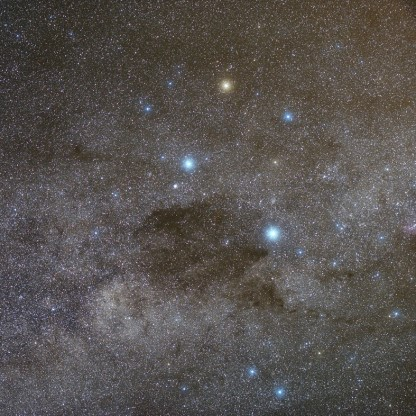Southern Cross: (174, 149, 199, 177), (259, 218, 285, 243), (274, 106, 300, 130), (215, 73, 237, 100)
